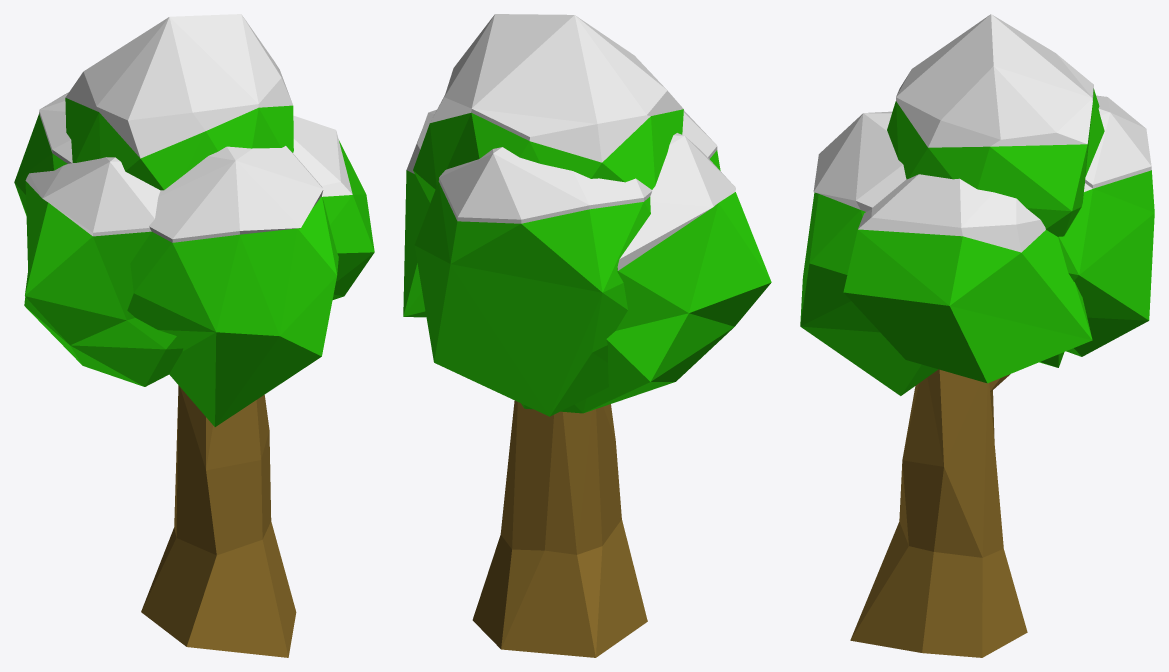
File: Tree#2_Snow.fbx
3 views of the same model, side by side, from view 1: azimuth 30°, elevation 25°; view 2: azimuth 150°, elevation 25°; view 3: azimuth 270°, elevation 25° (orthographic). The views are drawn at different scales.
Parts seen in each view (by area): view 1: Tree#2_Snow; view 2: Tree#2_Snow; view 3: Tree#2_Snow.
Part boxes in pixels (left/top/right/bottom): Tree#2_Snow: left=14, top=14, right=374, bottom=657; Tree#2_Snow: left=403, top=14, right=771, bottom=657; Tree#2_Snow: left=800, top=14, right=1154, bottom=657.
Bounding box in the file's own units: 400 × 674 × 359.
